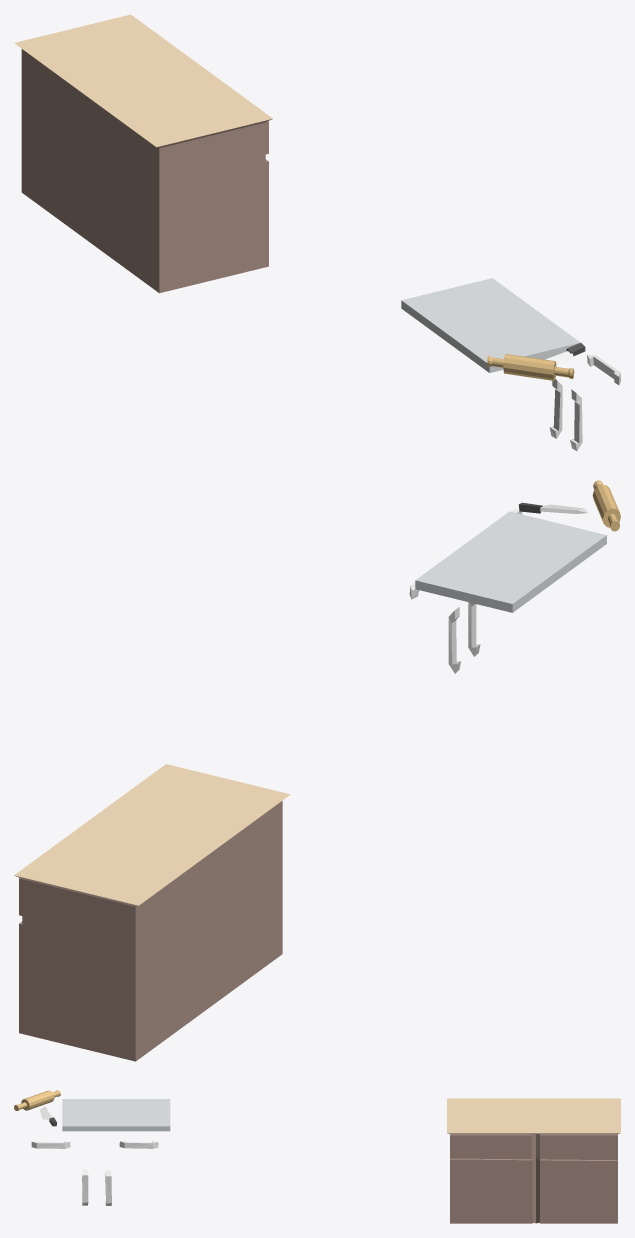
File: sinktable.fbx
3 views of the same model, one above another, from view 1: azimuth 30°, elevation 25°; view 2: azimuth 150°, elevation 25°; view 3: azimuth 270°, elevation 25° (orthographic). The views are drawn at different scales.
Parts seen in each view (by area): view 1: table1; view 2: table1; view 3: table1.
Part boxes in pixels (left/top/right/bottom): table1: left=14, top=14, right=620, bottom=450; table1: left=14, top=480, right=620, bottom=1061; table1: left=14, top=1090, right=620, bottom=1223.
Bounding box in the file's own units: 71.12 × 93.85 × 475.
